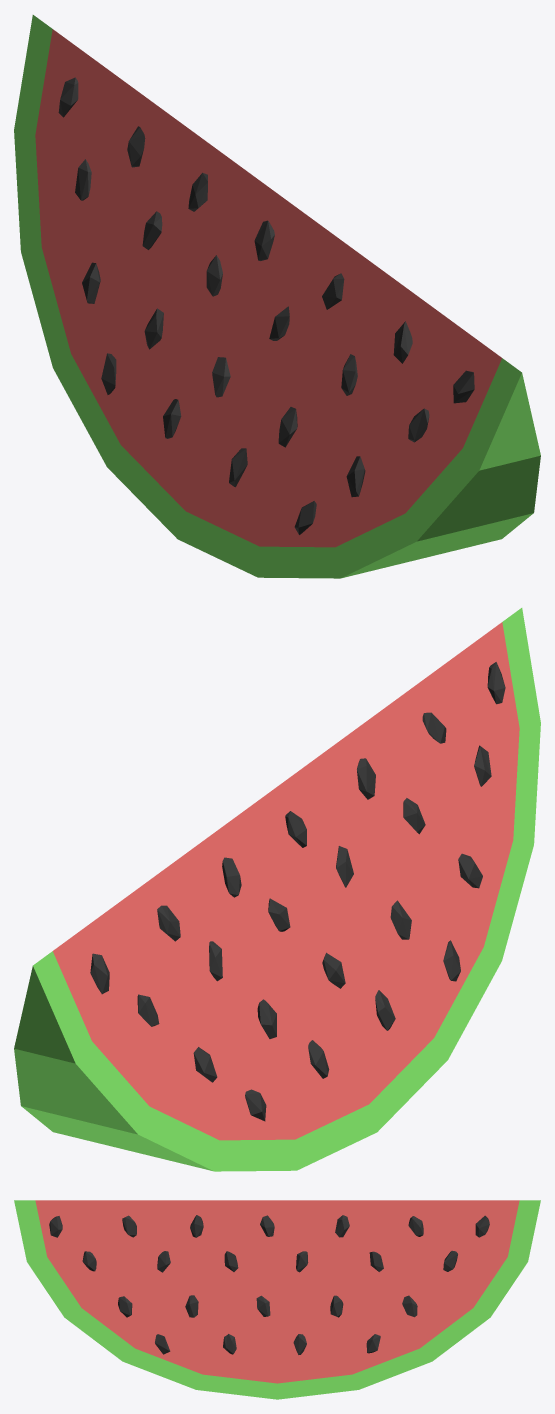
The model's file is karpuz.fbx.
3 renders of one model, top to bottom at view 1: azimuth 30°, elevation 25°; view 2: azimuth 150°, elevation 25°; view 3: azimuth 270°, elevation 25°, orthographic. The views are drawn at different scales.
Visible parts, largest first — view 1: karpuz dilimi (renksiz), karpuz dilimi (renksiz).001; view 2: karpuz dilimi (renksiz), karpuz dilimi (renksiz).001; view 3: karpuz dilimi (renksiz), karpuz dilimi (renksiz).001.
Part boxes in pixels (x1,y1,x2,y2): karpuz dilimi (renksiz): (14,15,540,578); karpuz dilimi (renksiz).001: (58,77,474,534); karpuz dilimi (renksiz): (14,608,540,1171); karpuz dilimi (renksiz).001: (90,662,505,1121); karpuz dilimi (renksiz): (14,1200,540,1399); karpuz dilimi (renksiz).001: (49,1215,489,1354).
Bounding box in the file's own units: 162 × 249 × 687.
